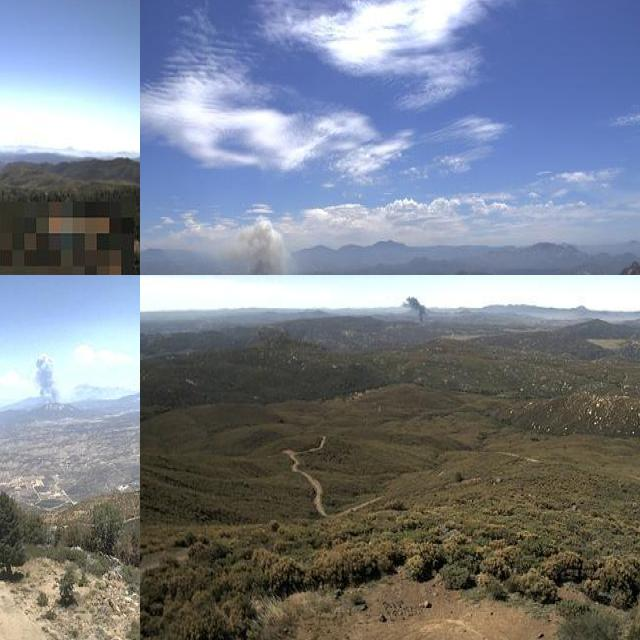smoke: (227, 214, 298, 275), (30, 356, 63, 411), (399, 291, 428, 329)
